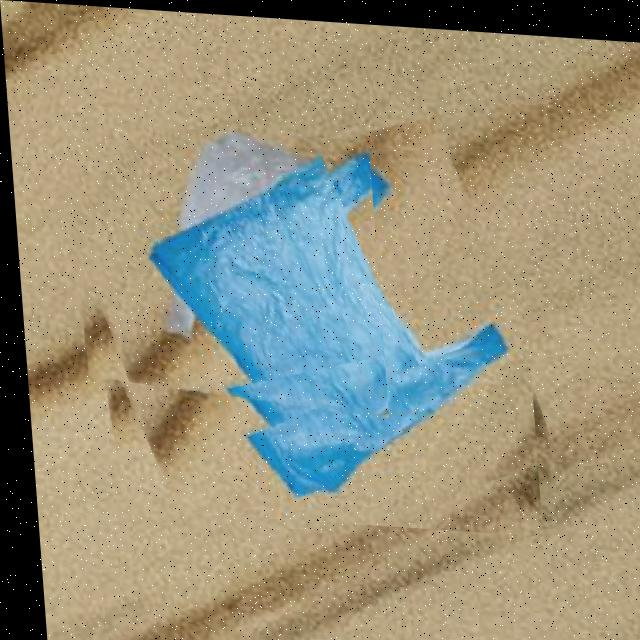plasticcover: (64, 115, 535, 529), (60, 120, 383, 414)
